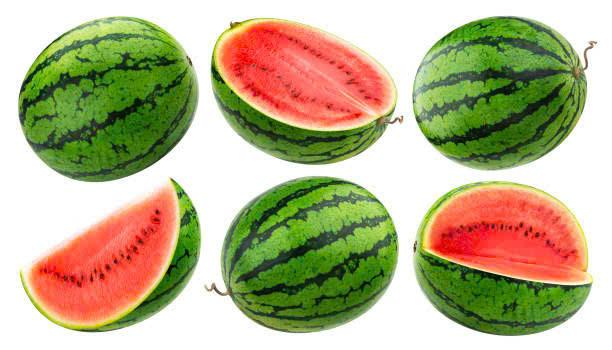watermelon: (406, 176, 594, 341), (211, 173, 400, 335), (18, 13, 201, 180), (407, 11, 592, 173), (17, 177, 203, 333), (210, 15, 399, 161)
